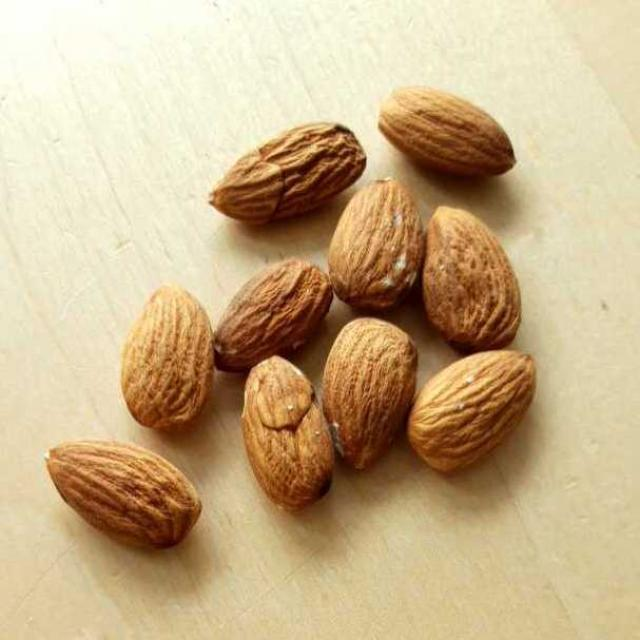almonds: (10, 56, 606, 579)
